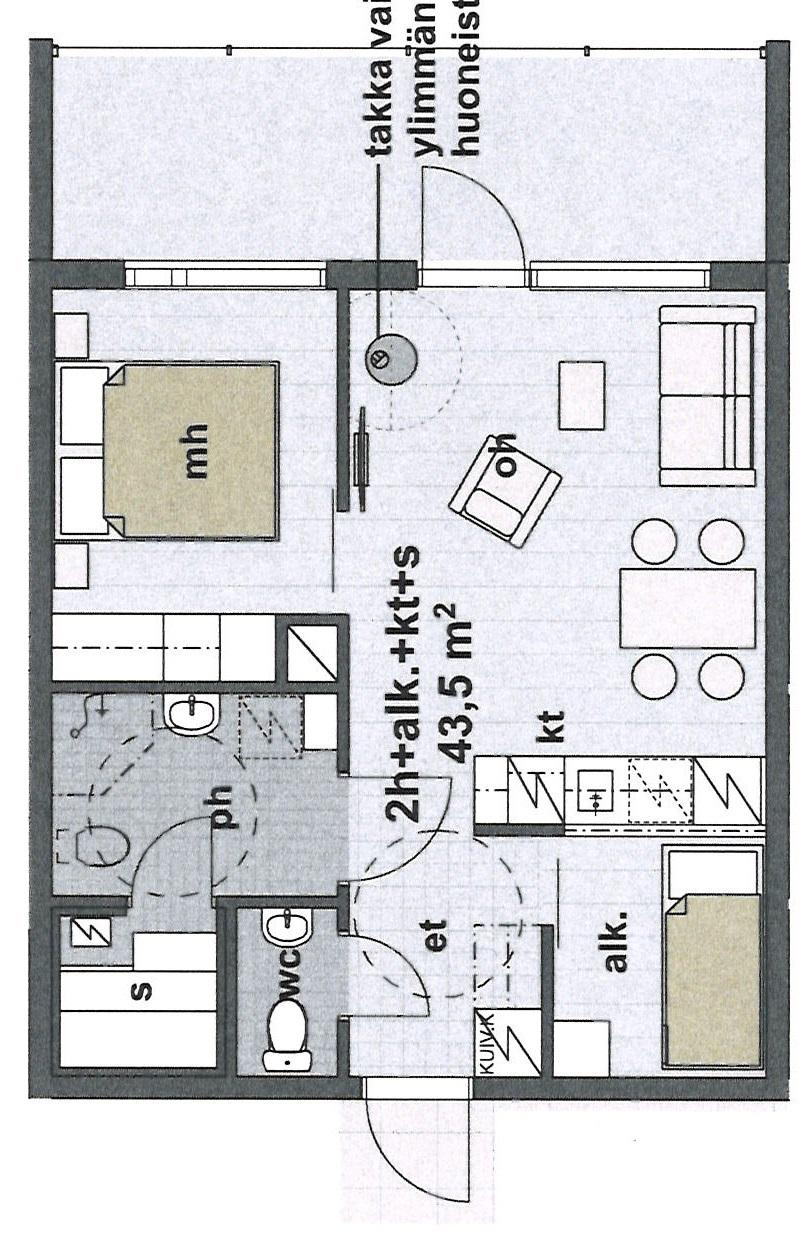bathroom: (52, 698, 342, 900), (233, 906, 341, 1080)
door: (361, 1067, 480, 1206), (334, 766, 455, 887), (414, 158, 530, 284), (121, 813, 221, 915), (337, 929, 438, 1027)
perimeter: (29, 260, 790, 1101)
window: (111, 254, 341, 294), (525, 254, 720, 296)
